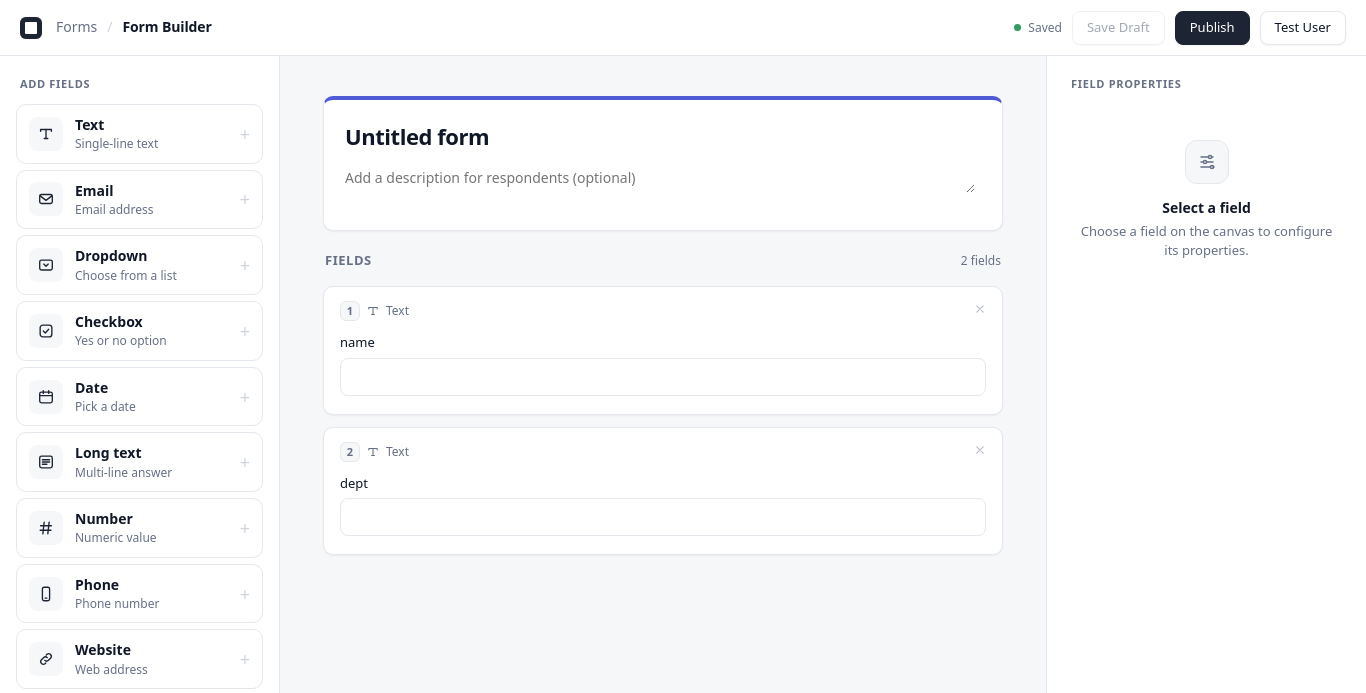
field numbering › keeps the number outside the field label
Click the button named "Select name field". click: (663, 350)
box: [324,287,1002,414]
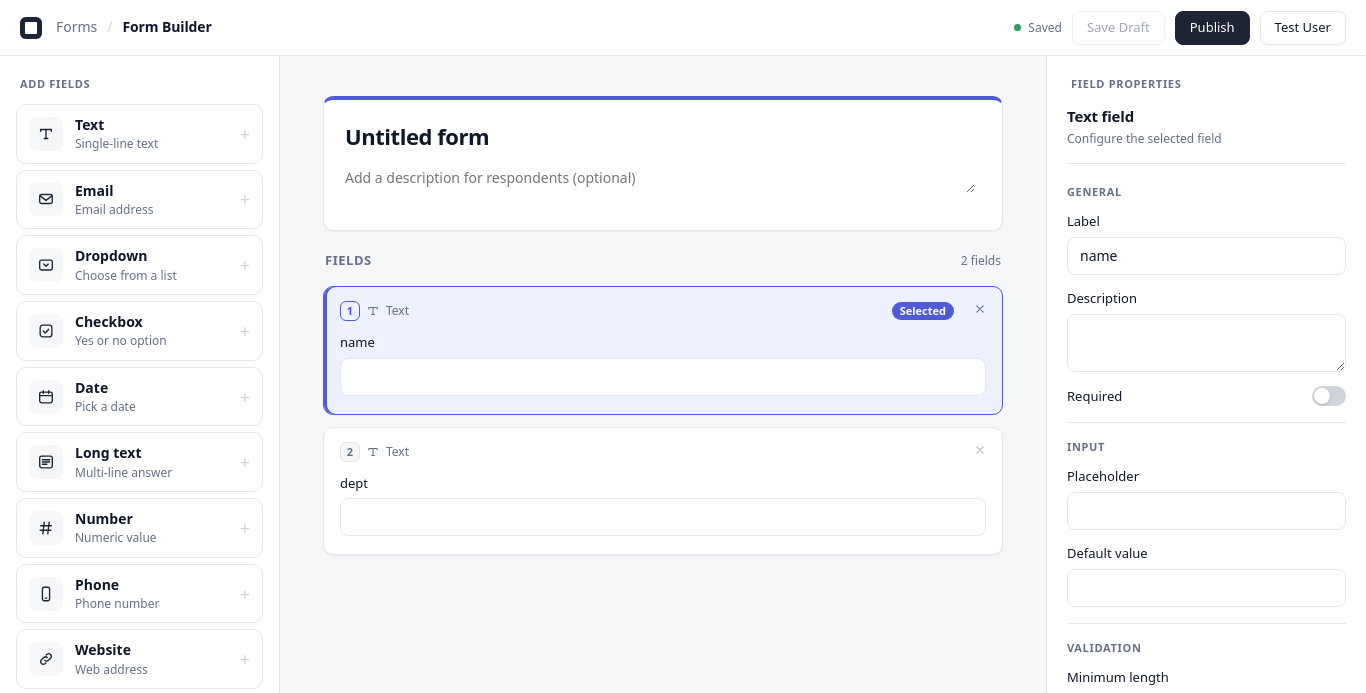
Check: the field labelled "name" is shown, box [340,358,986,396]
Check: the field labelled "Label" holds "name", box [1067,237,1346,275]
